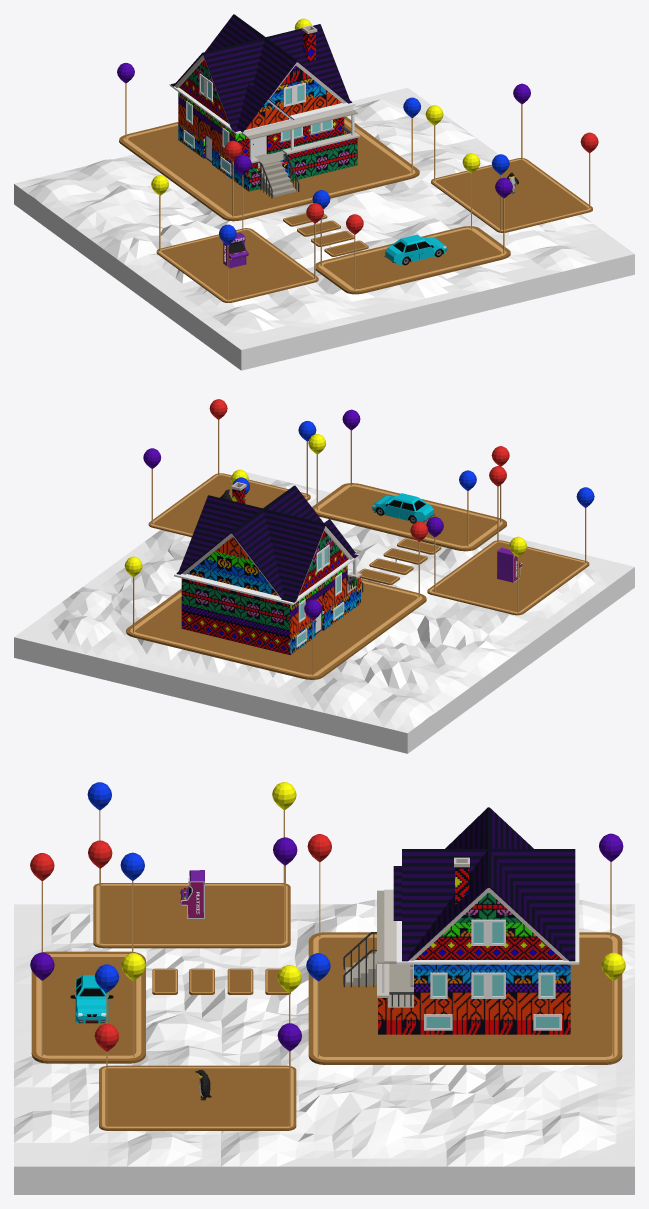
3 views of the same model, one above another, from view 1: azimuth 30°, elevation 25°; view 2: azimuth 150°, elevation 25°; view 3: azimuth 270°, elevation 25° (orthographic). The views are drawn at different scales.
Parts seen in each view (by area): view 1: Cube.013, Cube.966, VEHICLES_CAR, OBJRANDOM_ARCADE; view 2: Cube.013, Cube.966, VEHICLES_CAR, OBJRANDOM_ARCADE; view 3: Cube.013, Cube.966, VEHICLES_CAR, OBJRANDOM_ARCADE.
Part boxes in pixels (x1,y1,x2,y2): Cube.013: (14,18,634,370); Cube.966: (169,14,360,198); VEHICLES_CAR: (384,234,446,265); OBJRANDOM_ARCADE: (223,232,248,268); Cube.013: (14,399,634,753); Cube.966: (174,482,363,655); VEHICLES_CAR: (372,493,434,523); OBJRANDOM_ARCADE: (497,547,522,582); Cube.013: (14,782,634,1194); Cube.966: (343,807,579,1034); VEHICLES_CAR: (70,975,113,1023); OBJRANDOM_ARCADE: (180,870,204,918).
Bounding box in the file's own units: 4000 × 1789 × 4000.
Materials: 44 (5 with a texture image).
